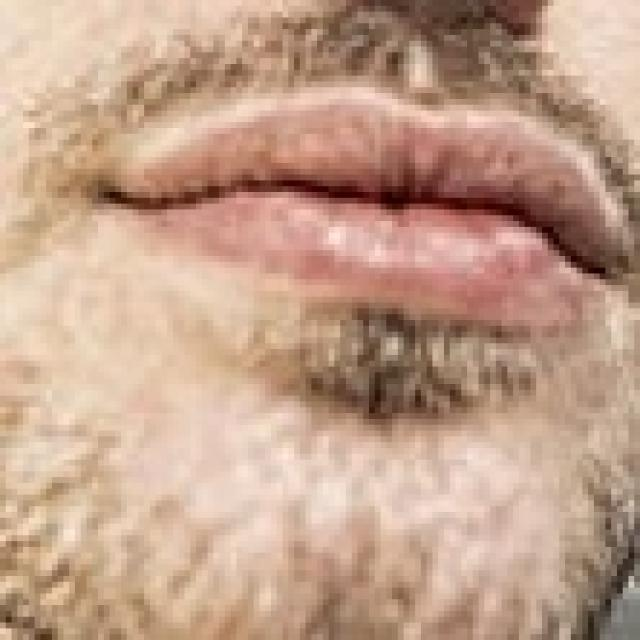closed-mouth: (86, 81, 634, 332)
